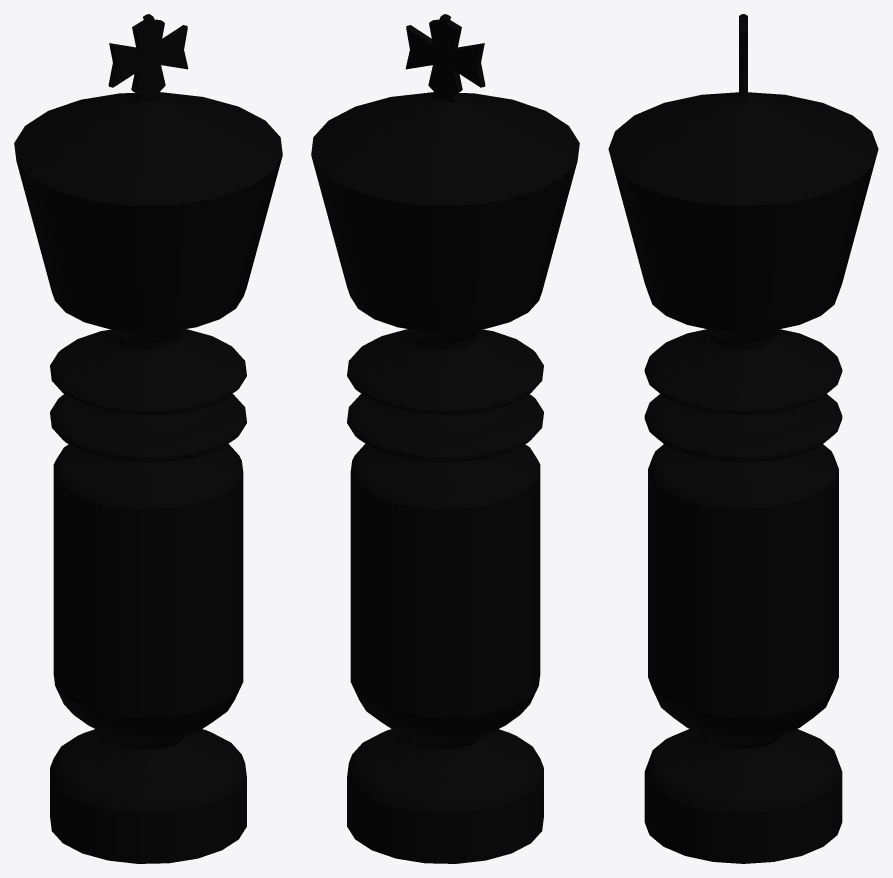
The picture shows the model from 3 angles, left to right: view 1: azimuth 30°, elevation 25°; view 2: azimuth 150°, elevation 25°; view 3: azimuth 270°, elevation 25°; orthographic projection.
Parts seen in each view (by area): view 1: King_White_Pieces1_0; view 2: King_White_Pieces1_0; view 3: King_White_Pieces1_0.
Part boxes in pixels (bbox=[...]): King_White_Pieces1_0: bbox=[14, 14, 282, 863]; King_White_Pieces1_0: bbox=[311, 14, 579, 863]; King_White_Pieces1_0: bbox=[608, 14, 878, 863].
Bounding box in the file's own units: 0.2186 × 0.2186 × 0.7208.
1 material, 1 textured.
